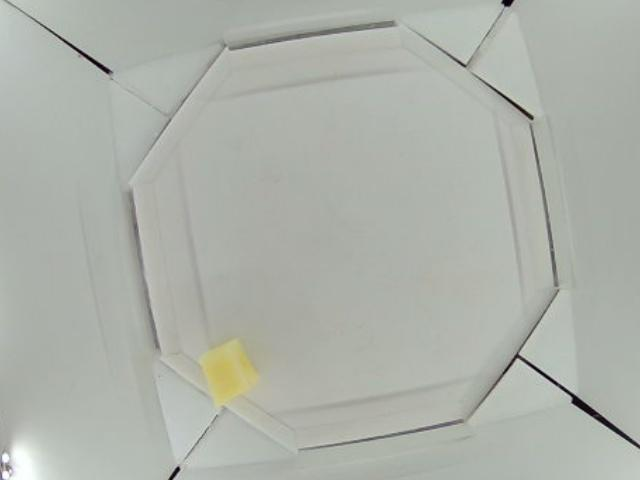Potato: (203, 337, 258, 404)
